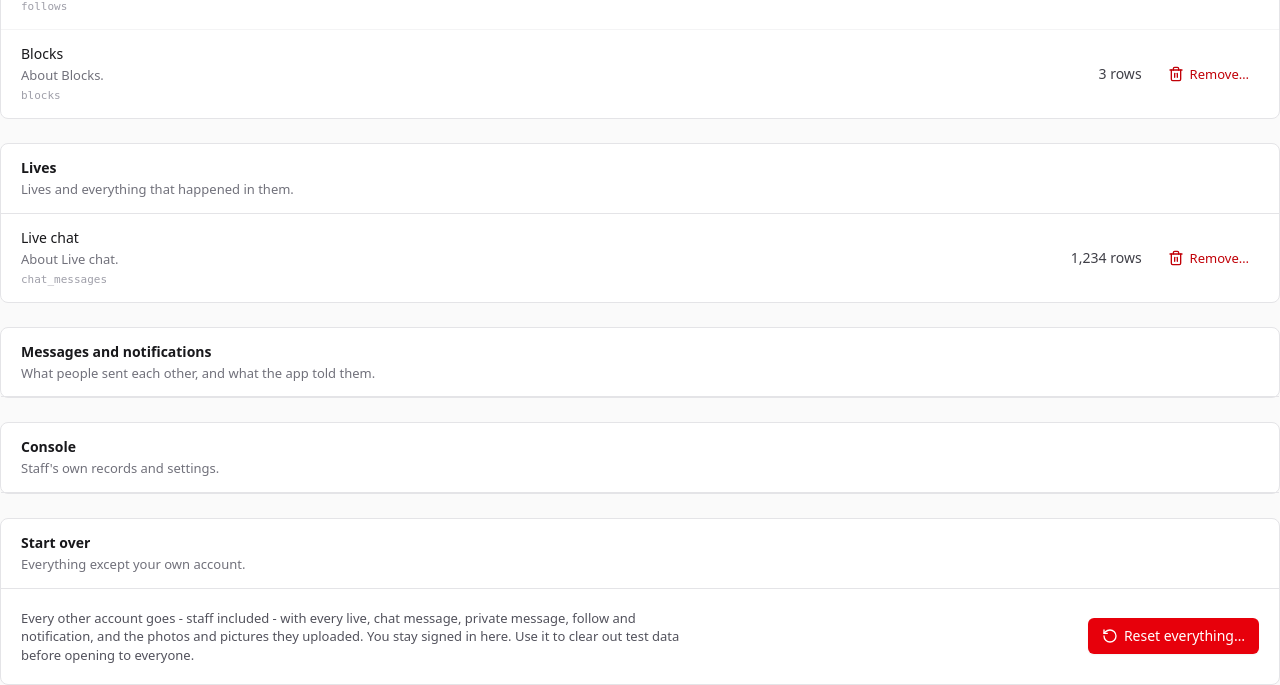
Test: DataPage › resets everything only once RESET and the password are typed, keeping what was picked
The image size is (1280, 685).
(page scrolled)
Click the button "Reset everything…": (1173, 636) [1088,618,1259,654]
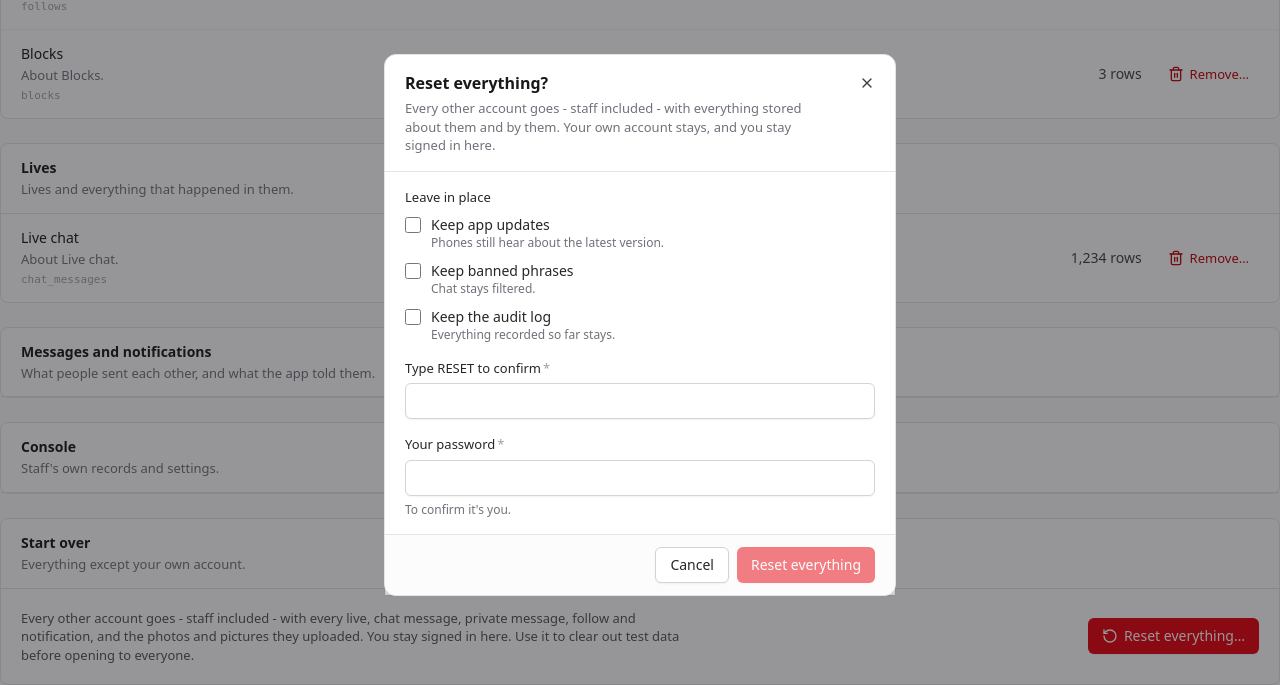
Click the checkbox labelled "Keep the audit log Everything recorded so far stays.": (413, 317) [405,309,421,325]
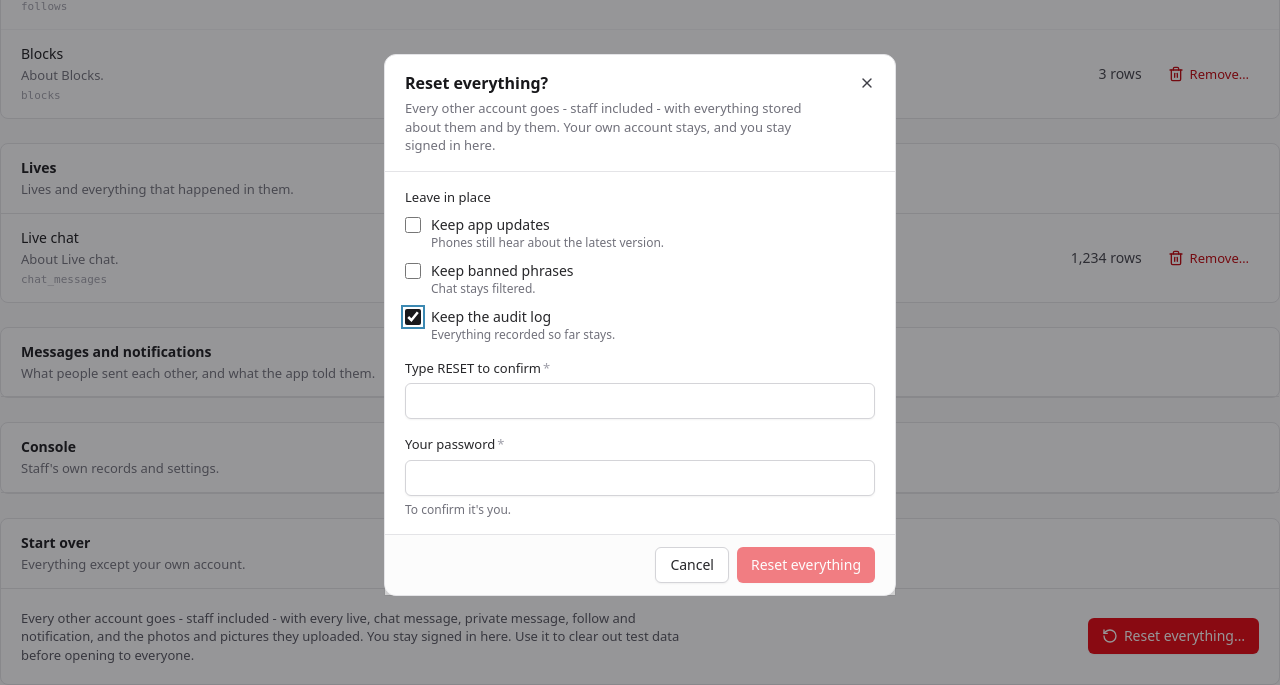
In the password field labelled "Your password*": (640, 478) [405,460,875,496], type "my password 1"
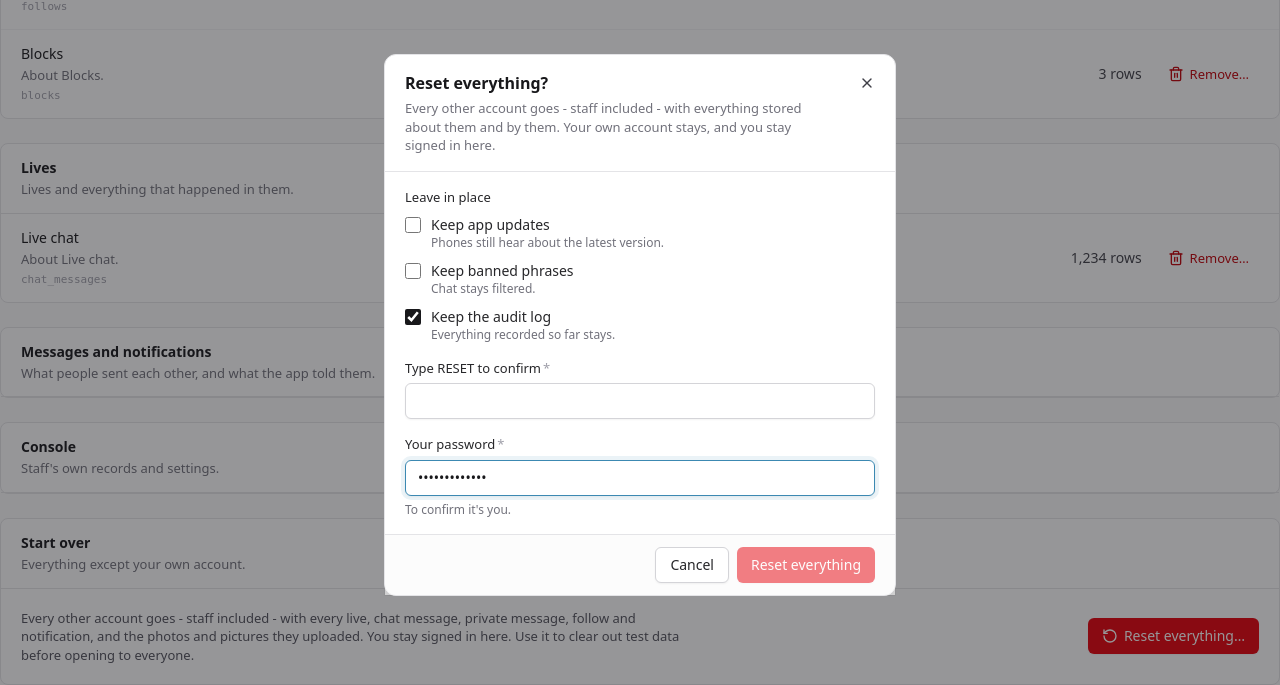
Expected: the button "Reset everything" is disabled, [737,547,875,583]
In the field labelled "Type RESET to confirm*": (640, 401) [405,383,875,419], type "RESET"
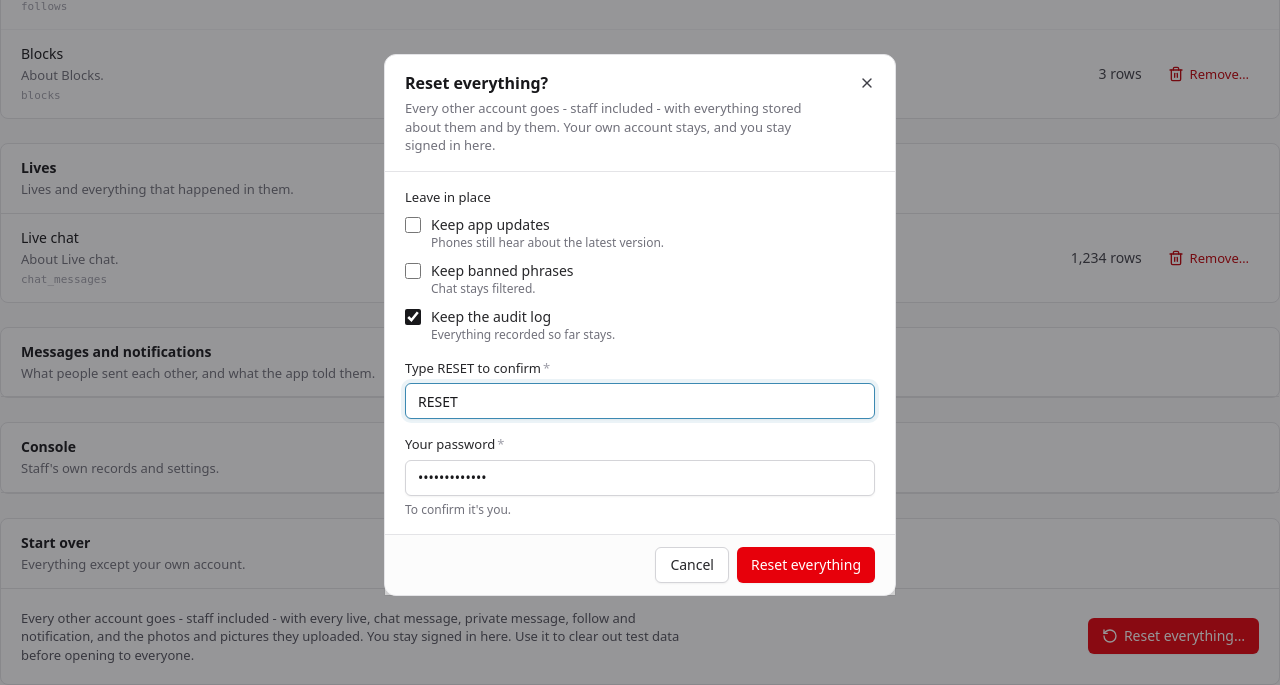
Click the button "Reset everything": (806, 565) [737,547,875,583]
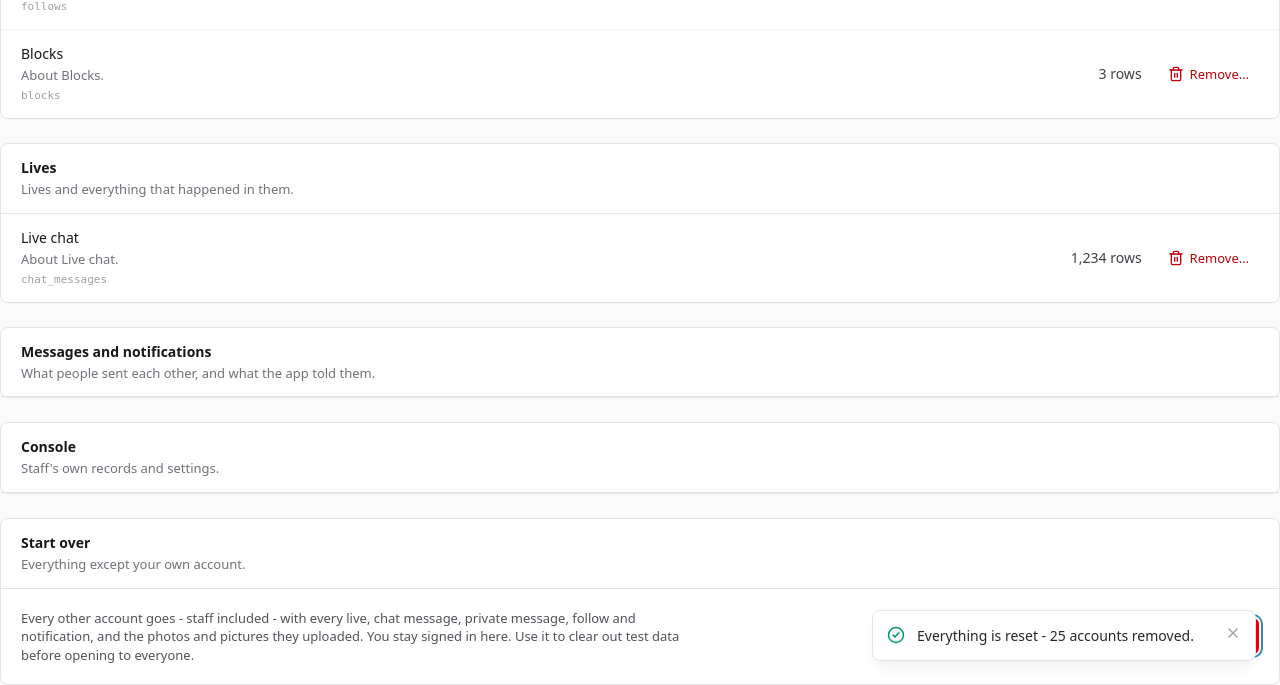
Expected: the text "Everything is reset - 25 accounts removed." is shown, [917,625,1213,646]
